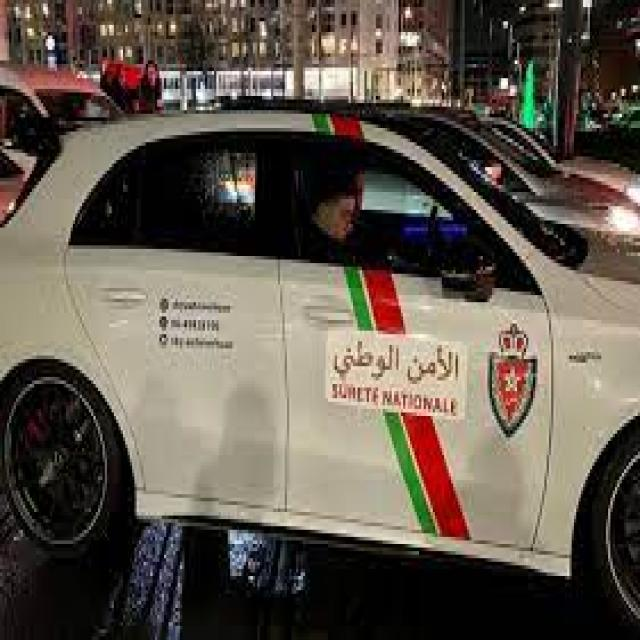police: (5, 107, 640, 610)
